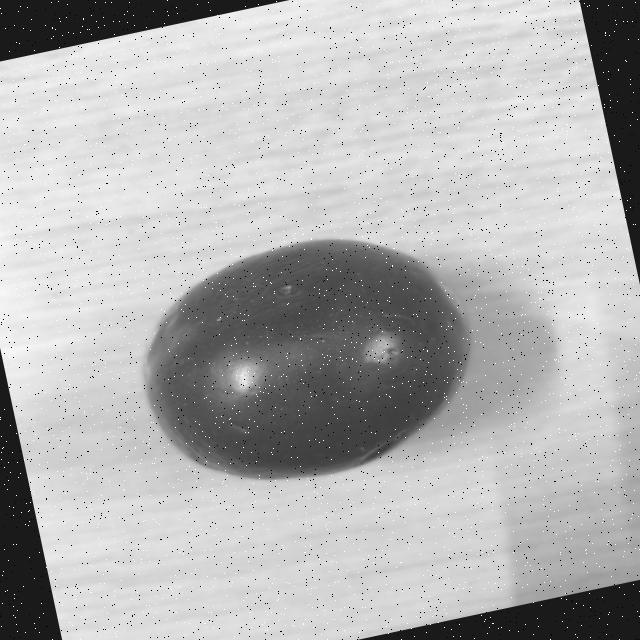Ripe: (114, 203, 498, 514)
